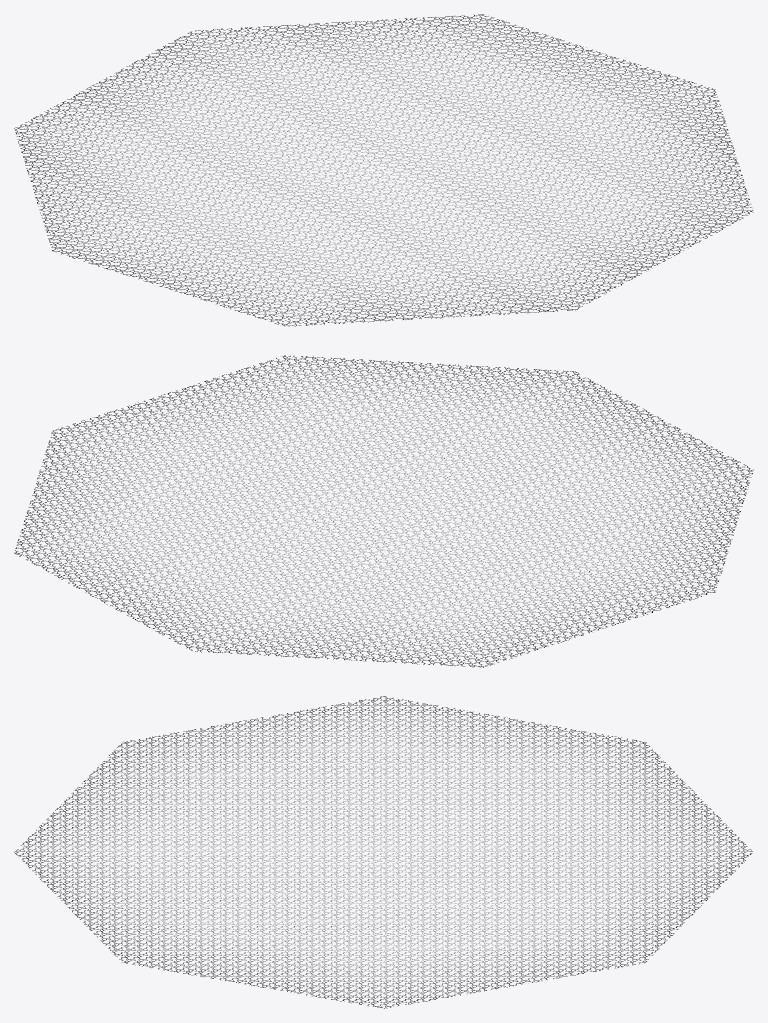
File: old_hyudoro_64-hyudoro_waterA.glb
3 renders of one model, top to bottom at view 1: azimuth 30°, elevation 25°; view 2: azimuth 150°, elevation 25°; view 3: azimuth 270°, elevation 25°, orthographic. The views are drawn at different scales.
Visible parts, largest first — view 1: hyudoro_waterA; view 2: hyudoro_waterA; view 3: hyudoro_waterA.
Part boxes in pixels (x1,y1,x2,y2): hyudoro_waterA: (14,14,753,326); hyudoro_waterA: (14,355,753,667); hyudoro_waterA: (14,696,752,1008).
Bounding box in the file's own units: 581 × 0 × 581.
Materials: 1 (1 with a texture image).
